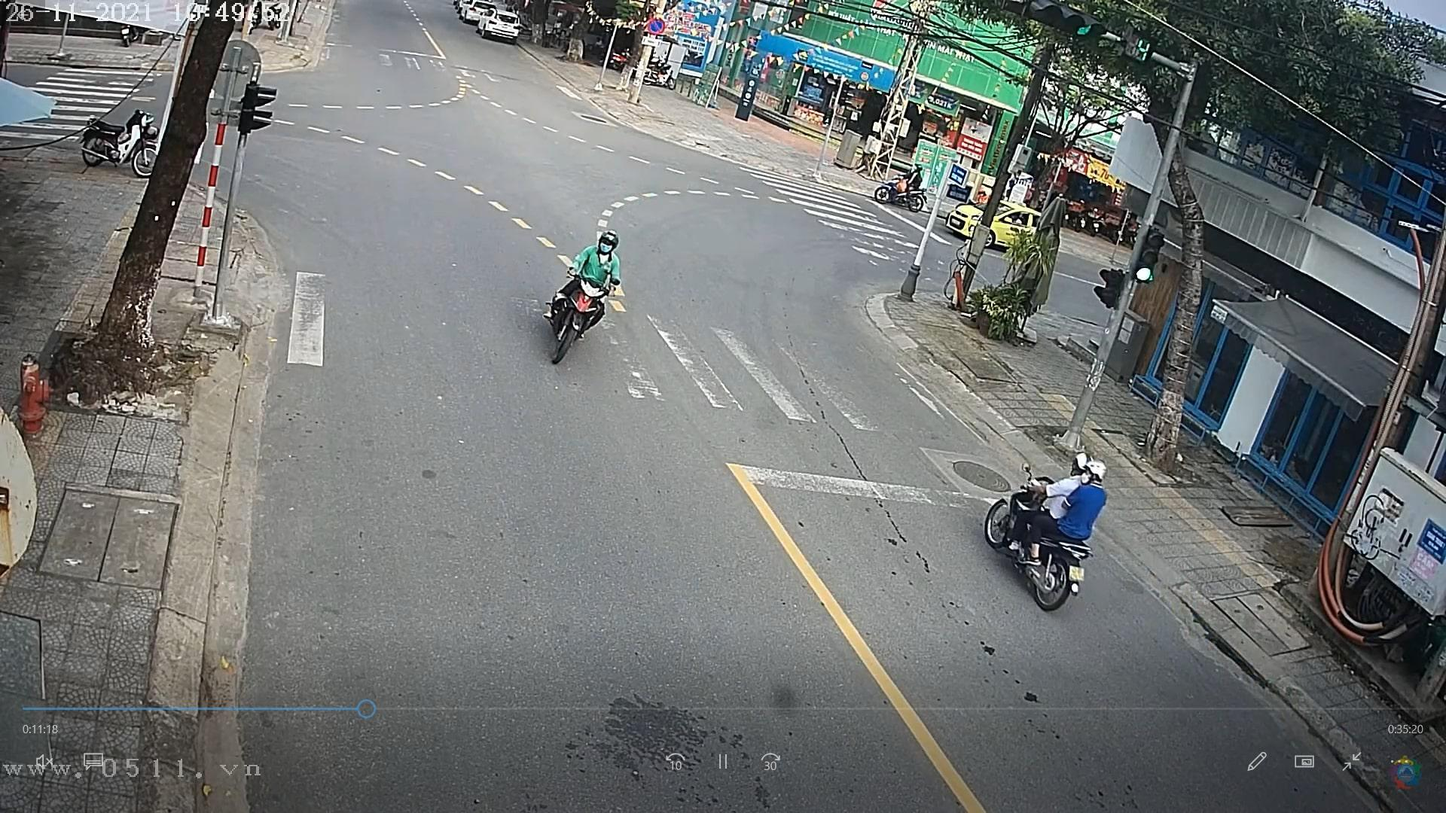car: (947, 196, 1046, 257)
motorbike: (981, 465, 1099, 618), (545, 262, 621, 366), (871, 170, 926, 213)
